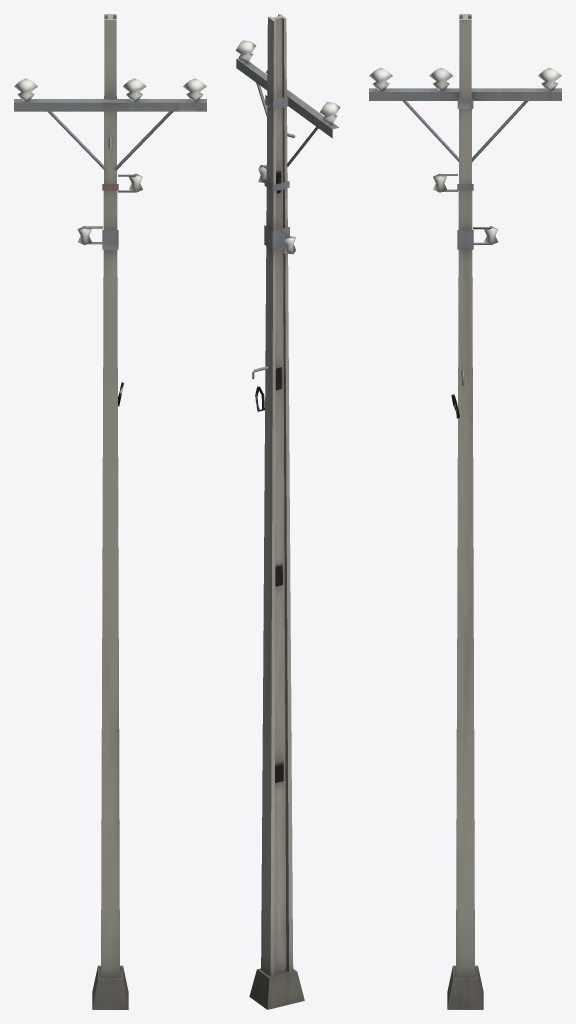
Rendered from pole_psc.glb.
3 views of the same model, side by side, from view 1: azimuth 90°, elevation 25°; view 2: azimuth 210°, elevation 25°; view 3: azimuth 270°, elevation 25° (orthographic).
Visible parts, largest first — view 1: pole_psc; view 2: pole_psc; view 3: pole_psc.
Boxes of the visible parts, x1,y1,x2,y2 form: pole_psc: (14, 14, 206, 1009); pole_psc: (235, 14, 340, 1009); pole_psc: (369, 14, 561, 1009).
Size of the model in its own units: 2.16 by 45 by 8.
1 material, 1 textured.
